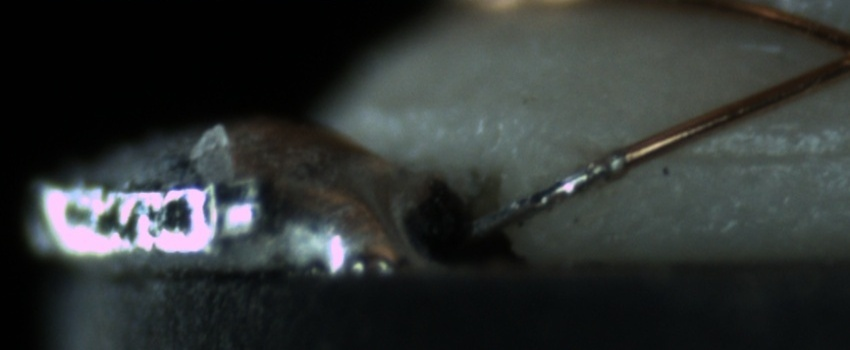CL: (807, 16, 850, 81)
DL: (669, 127, 849, 182)
TS: (471, 151, 628, 234)
TTCW: (466, 131, 672, 243)
